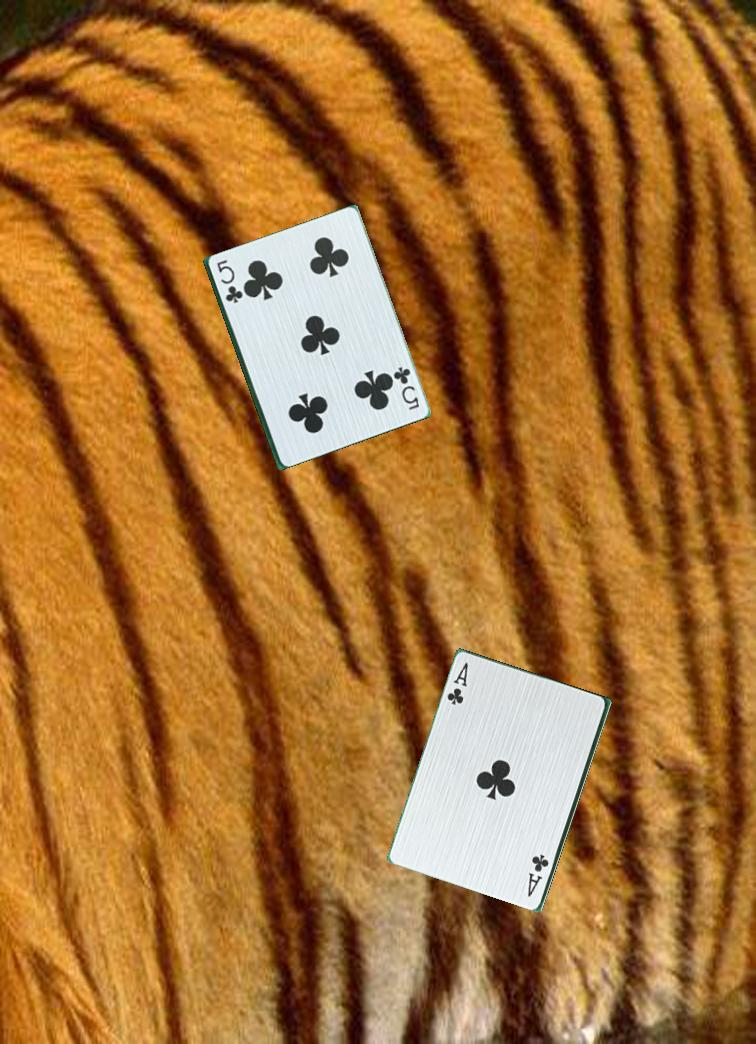5c: (390, 362, 423, 413), (213, 254, 244, 306)
ac: (524, 851, 552, 901), (444, 659, 471, 708)
